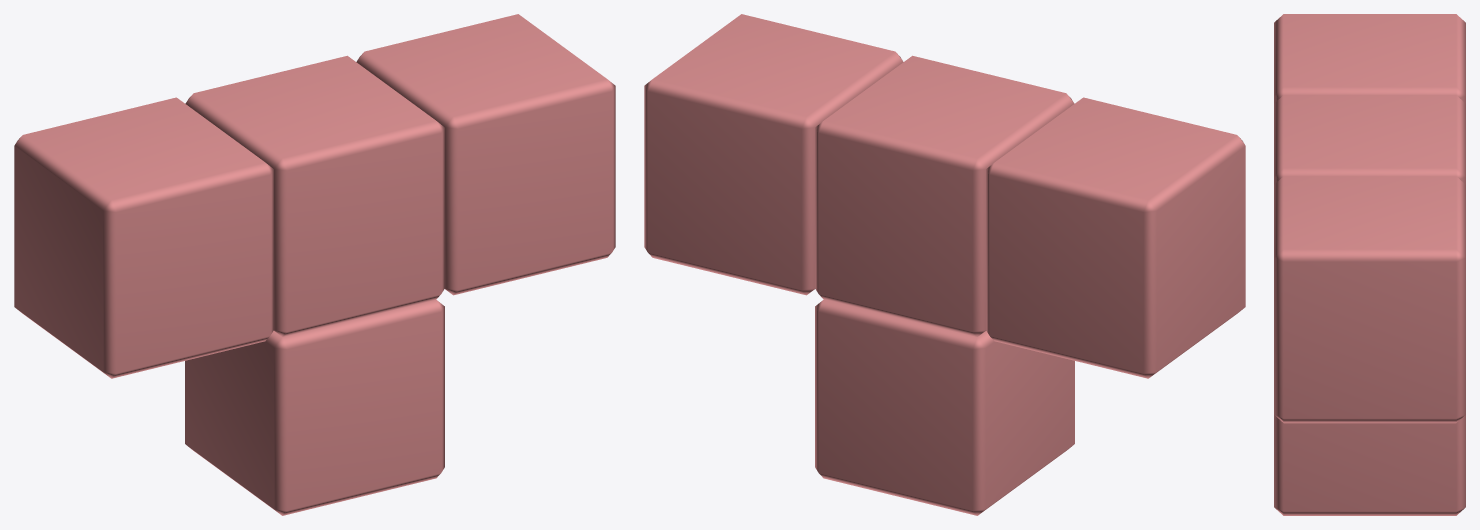
The model's file is FinBarbie2.fbx.
3 views of the same model, side by side, from view 1: azimuth 30°, elevation 25°; view 2: azimuth 150°, elevation 25°; view 3: azimuth 270°, elevation 25° (orthographic). The views are drawn at different scales.
Parts seen in each view (by area): view 1: geo1; view 2: geo1; view 3: geo1.
Boxes of the visible parts, x1,y1,x2,y2 form: geo1: (14, 14, 615, 515); geo1: (644, 14, 1245, 515); geo1: (1274, 14, 1465, 515).
Bounding box in the file's own units: 3 × 2 × 1.
